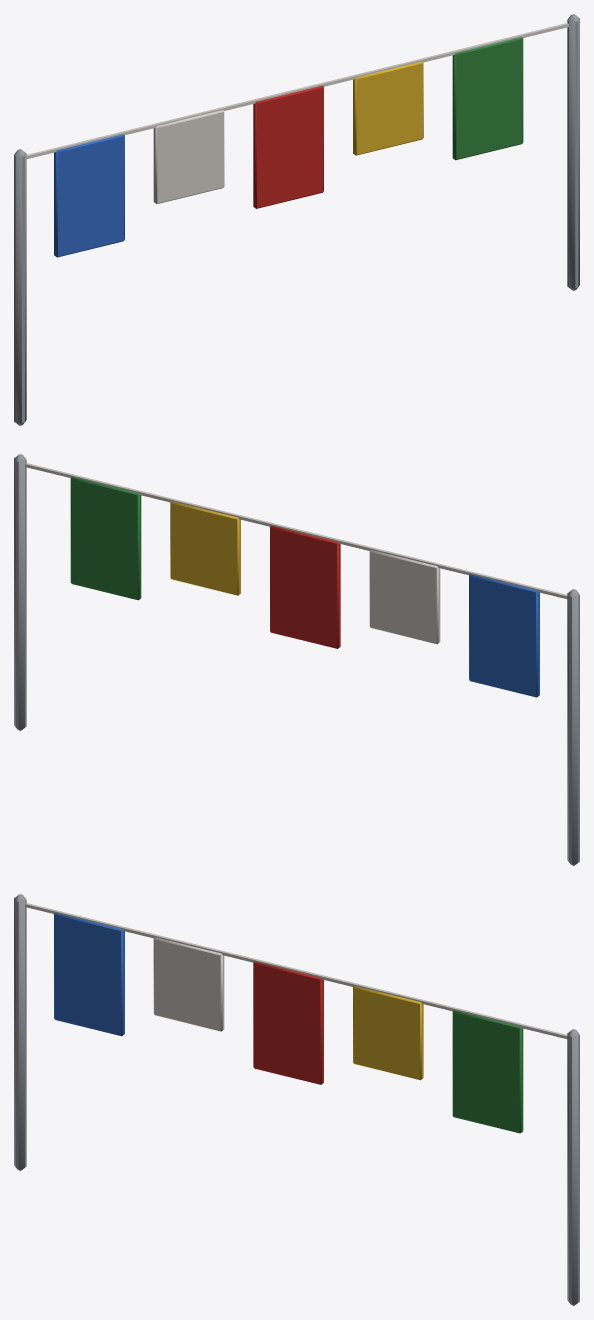
File: WashingLine.fbx
3 views of the same model, one above another, from view 1: azimuth 30°, elevation 25°; view 2: azimuth 150°, elevation 25°; view 3: azimuth 330°, elevation 25° (orthographic).
Visible parts, largest first — view 1: WashingLine; view 2: WashingLine; view 3: WashingLine.
Part boxes in pixels (<box>): WashingLine: <box>14,14,579,425</box>; WashingLine: <box>14,454,579,865</box>; WashingLine: <box>14,894,579,1305</box>.
Bounding box in the file's own units: 4.08 × 1.9 × 0.08.
